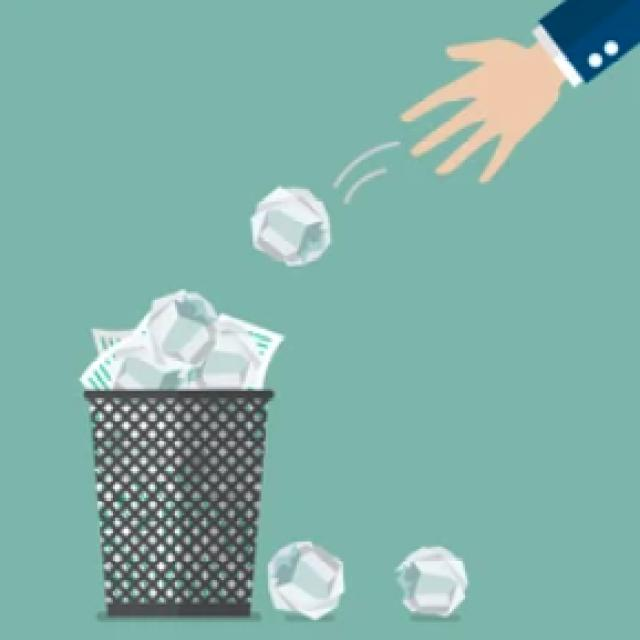KertasBekas: (78, 289, 284, 615), (529, 0, 638, 87), (248, 185, 330, 266), (266, 538, 345, 620), (394, 542, 467, 618)
